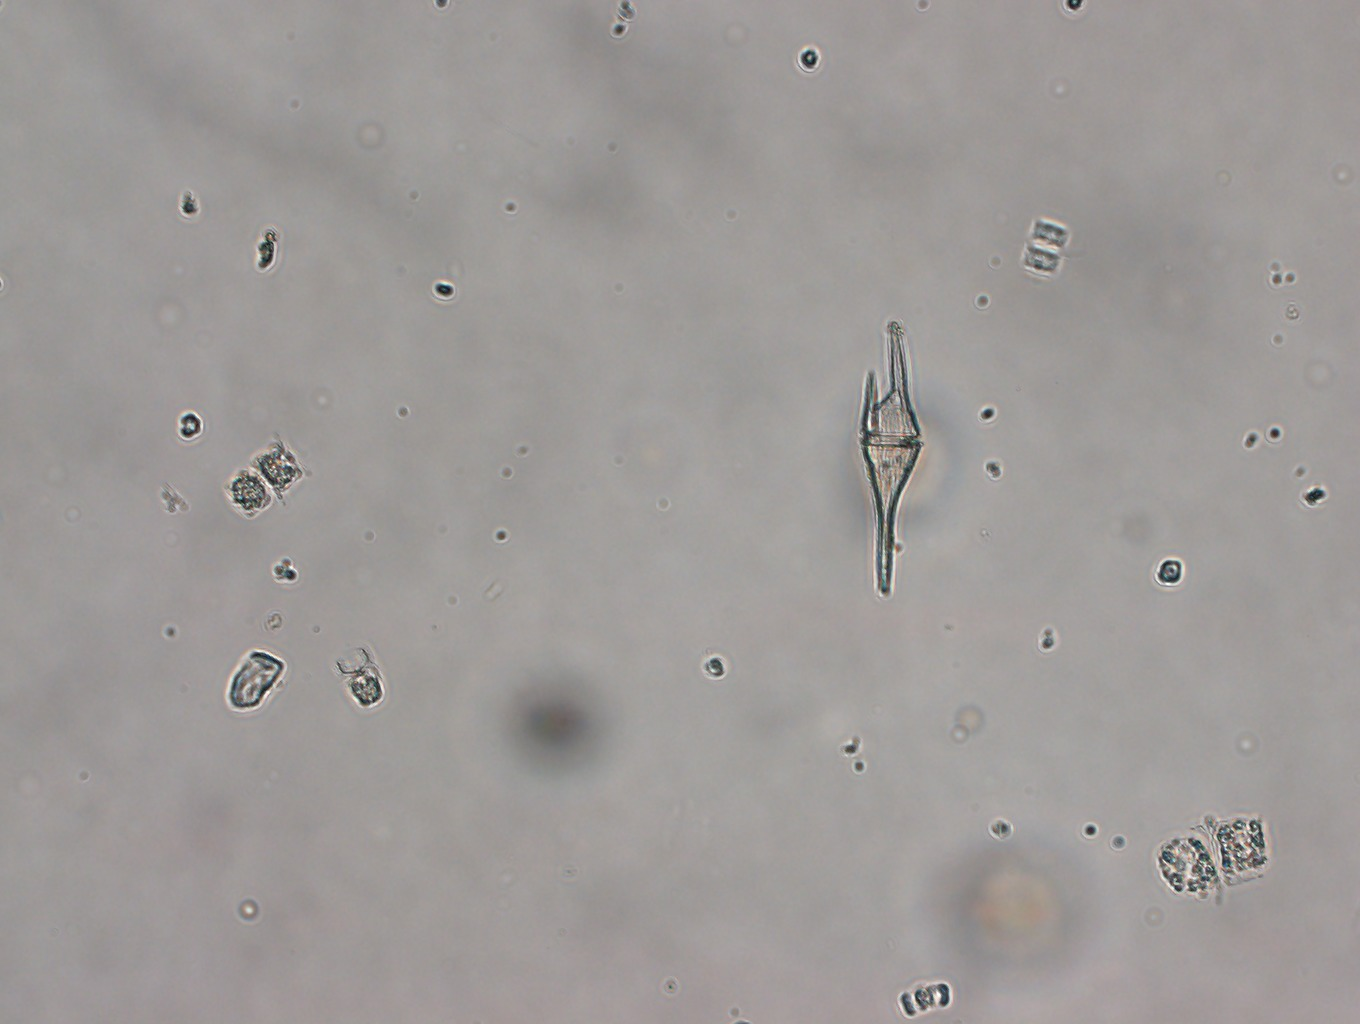thalassionema nitzschioides: (849, 316, 934, 603)
